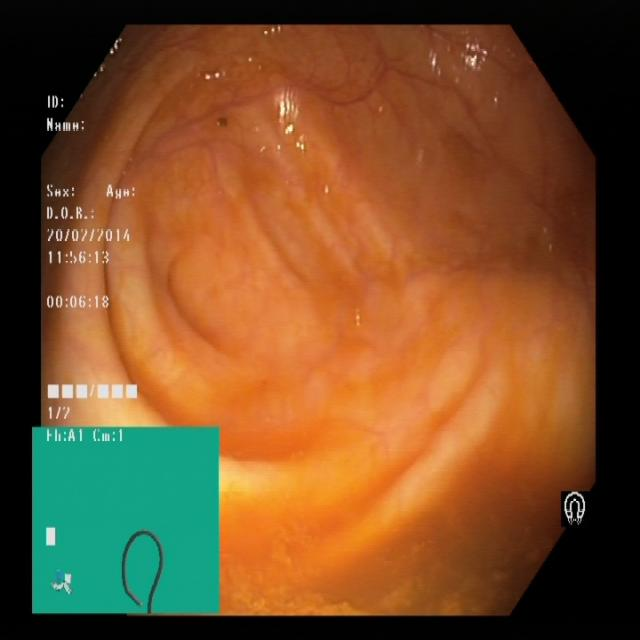normal-cecum: (219, 426, 602, 620), (110, 271, 390, 451)
